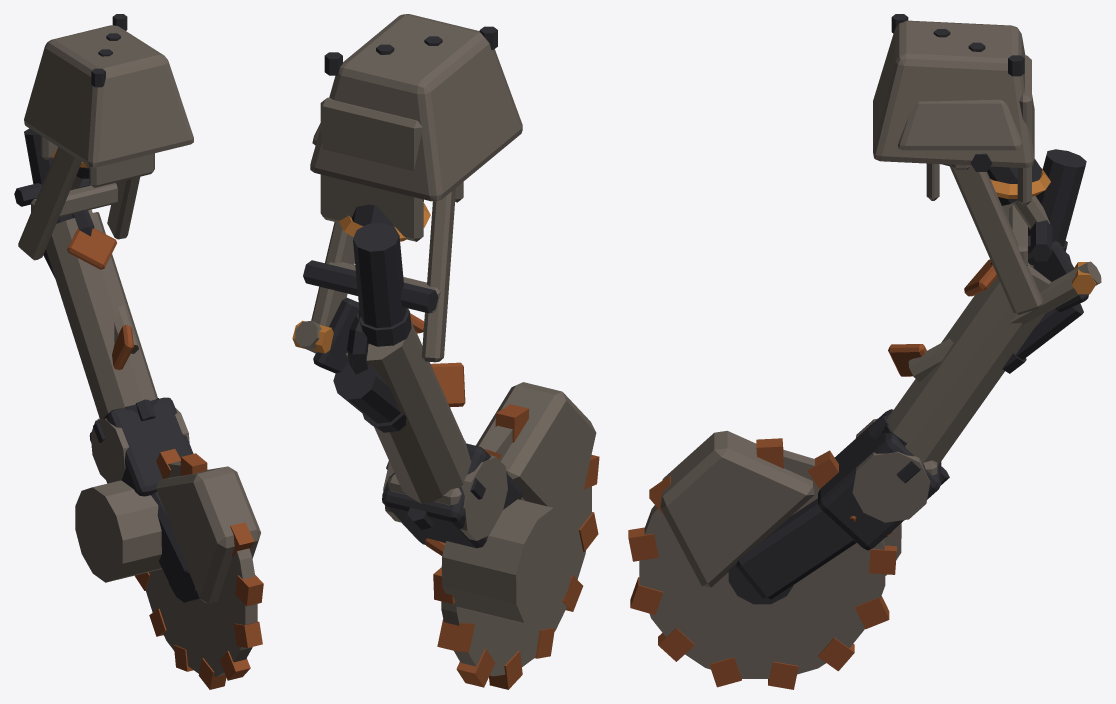
The model's file is ar_saw.glb.
3 renders of one model, left to right at view 1: azimuth 30°, elevation 25°; view 2: azimuth 150°, elevation 25°; view 3: azimuth 270°, elevation 25°, orthographic. The views are drawn at different scales.
Visible parts, largest first — view 1: ar_saw; view 2: ar_saw; view 3: ar_saw.
Boxes of the visible parts, x1,y1,x2,y2 form: ar_saw: (14, 14, 263, 689); ar_saw: (292, 14, 599, 689); ar_saw: (628, 14, 1101, 689).
Bounding box in the file's own units: 0.0986 × 0.4795 × 0.3176.
